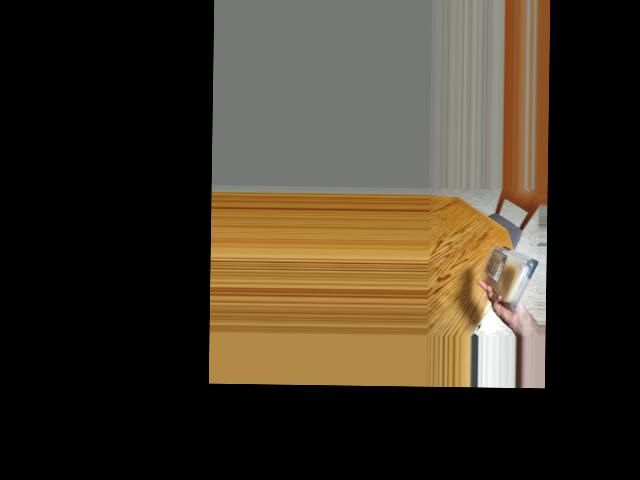cheese: (487, 245, 529, 304)
